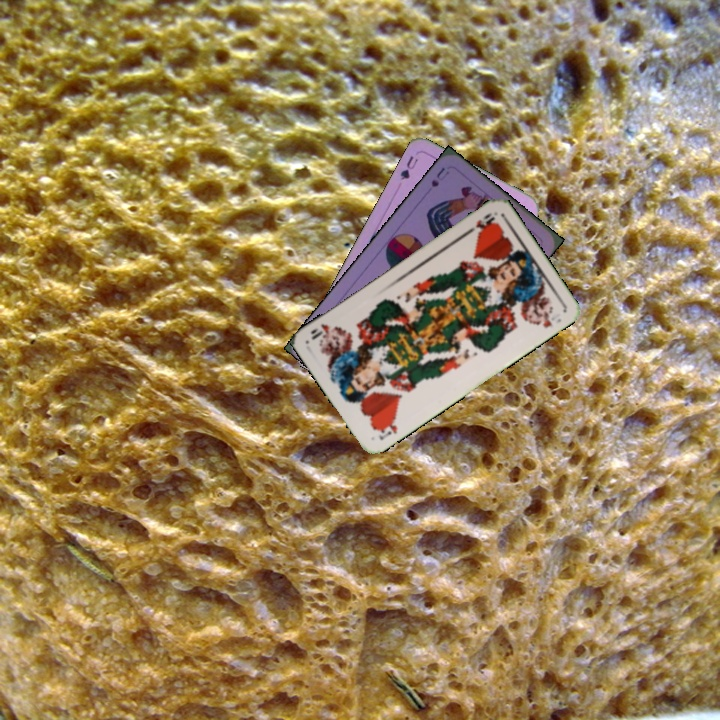GU: (396, 152, 420, 183)
HO: (462, 209, 498, 238), (373, 414, 400, 443)
SU: (427, 163, 452, 190)
